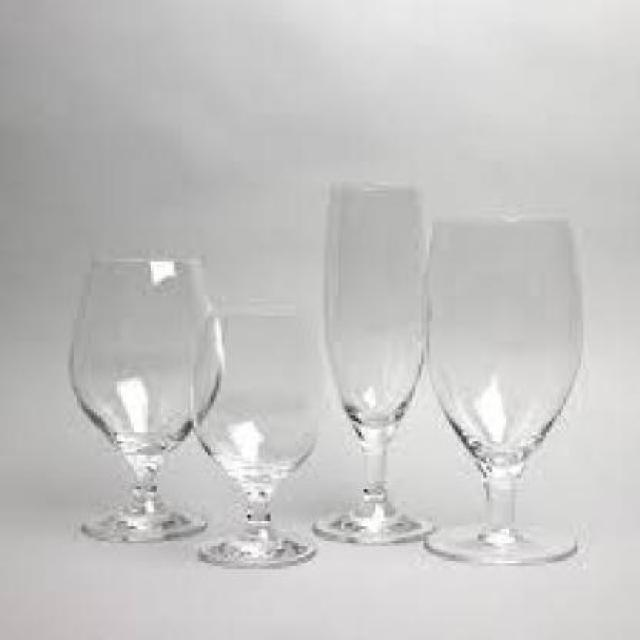kaca: (424, 214, 578, 563), (66, 259, 220, 543), (308, 183, 429, 542), (188, 308, 315, 563)
